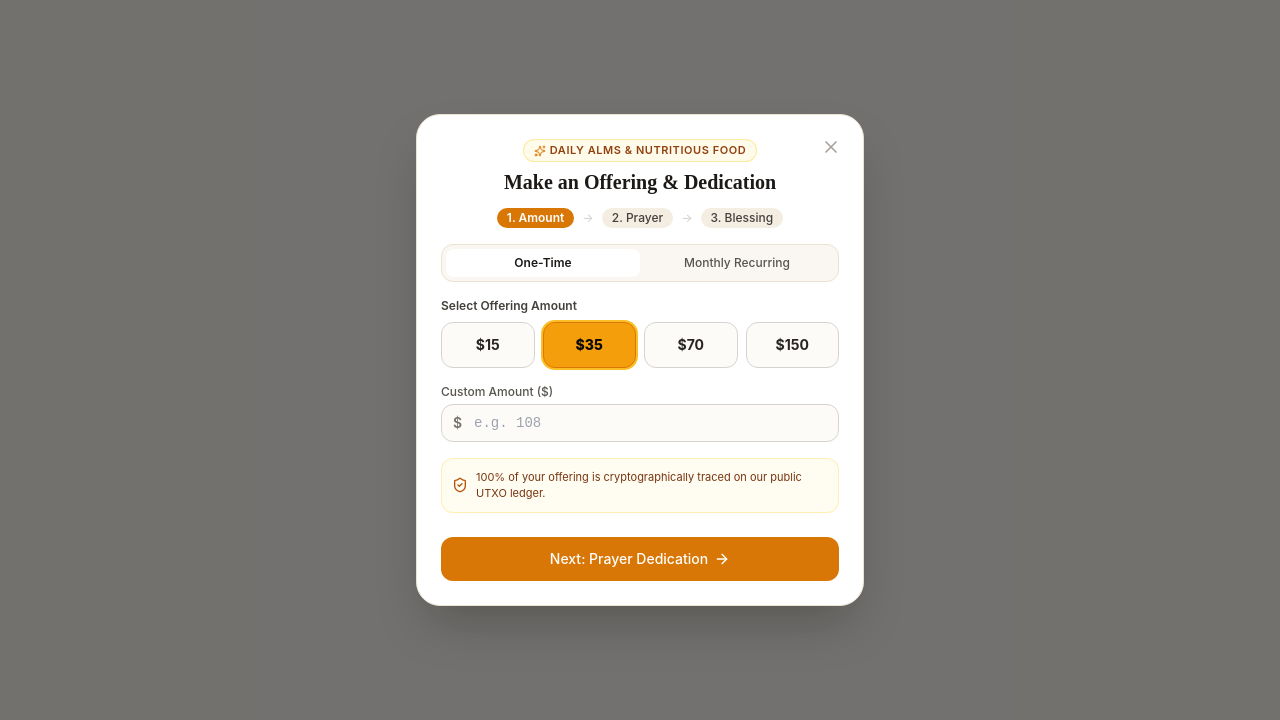
Test case: OfferingModal › allows navigating back from Step 2 to Step 1
This screenshot has width=1280, height=720.
Step 1. Click the button "Next: Prayer Dedication" → (640, 559), box [441,537,839,581]
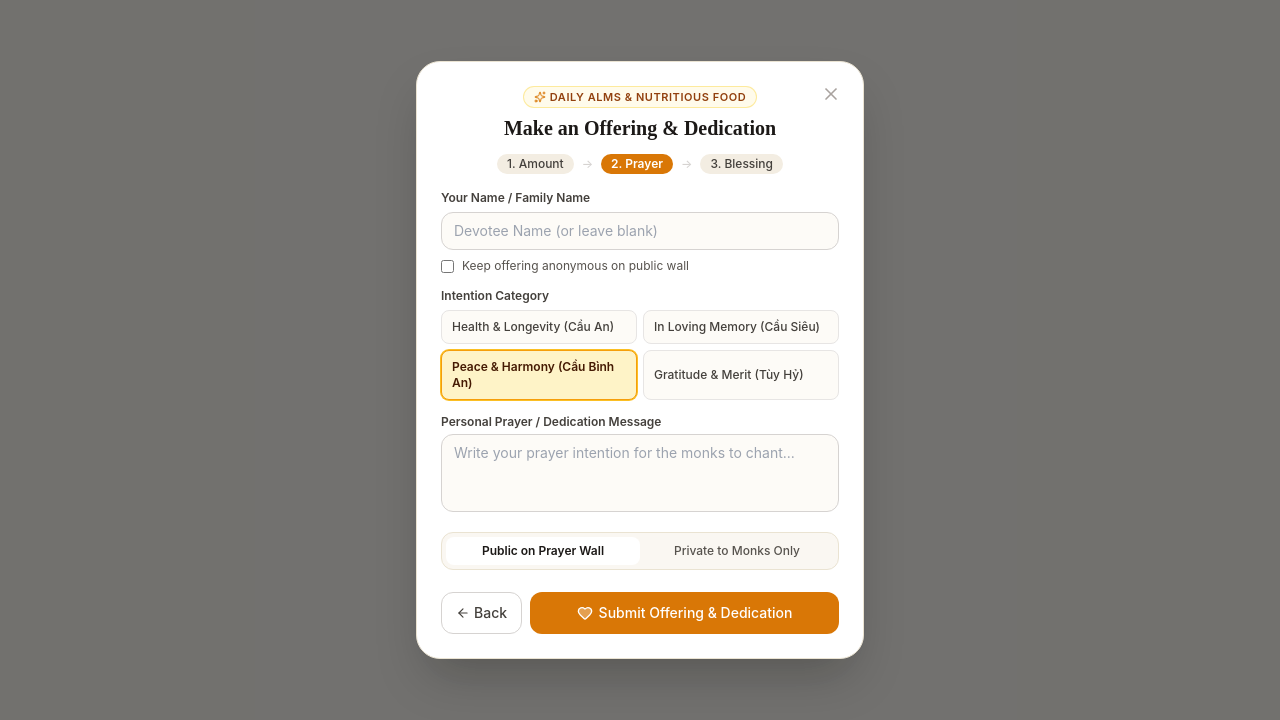
Now the text box with placeholder "Write your prayer intention for the monks to chant..." is shown, box [441,434,839,512]
Step 2. Click the button "Back" → (482, 613), box [441,592,522,634]
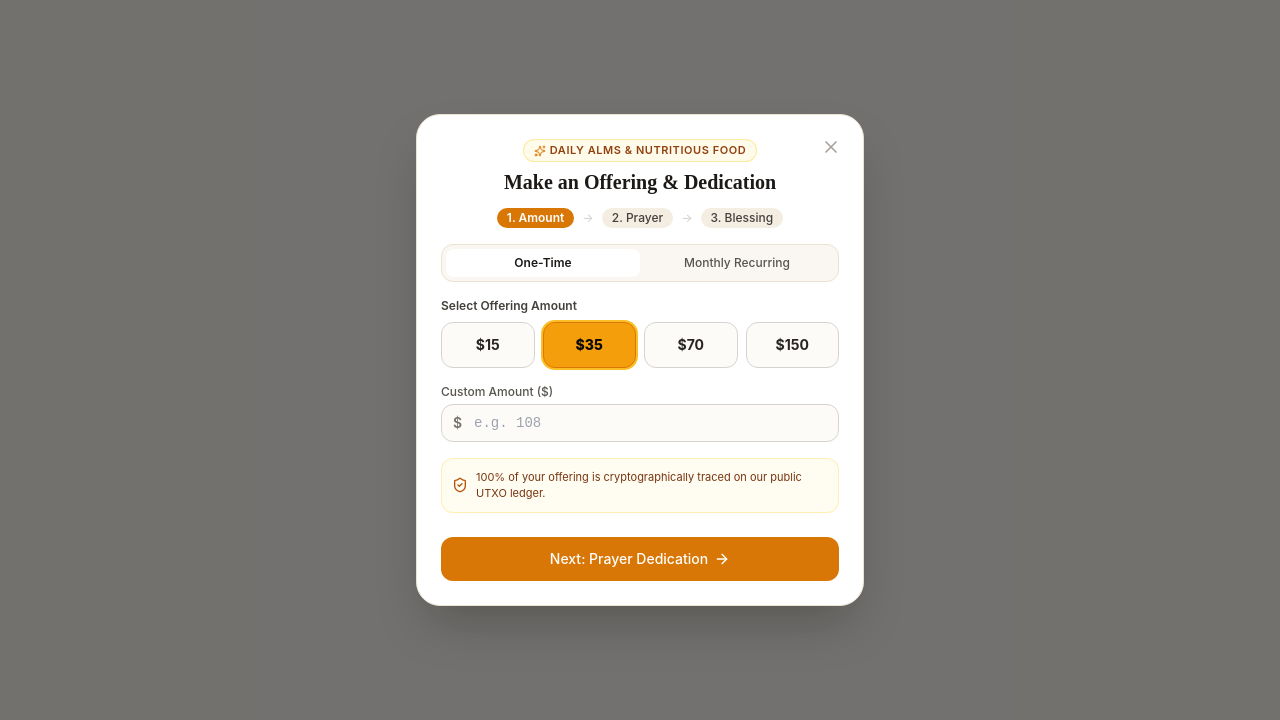
Now the text "$15" is shown, box [476,335,500,355]
Now the text "$35" is shown, box [576,335,603,355]
